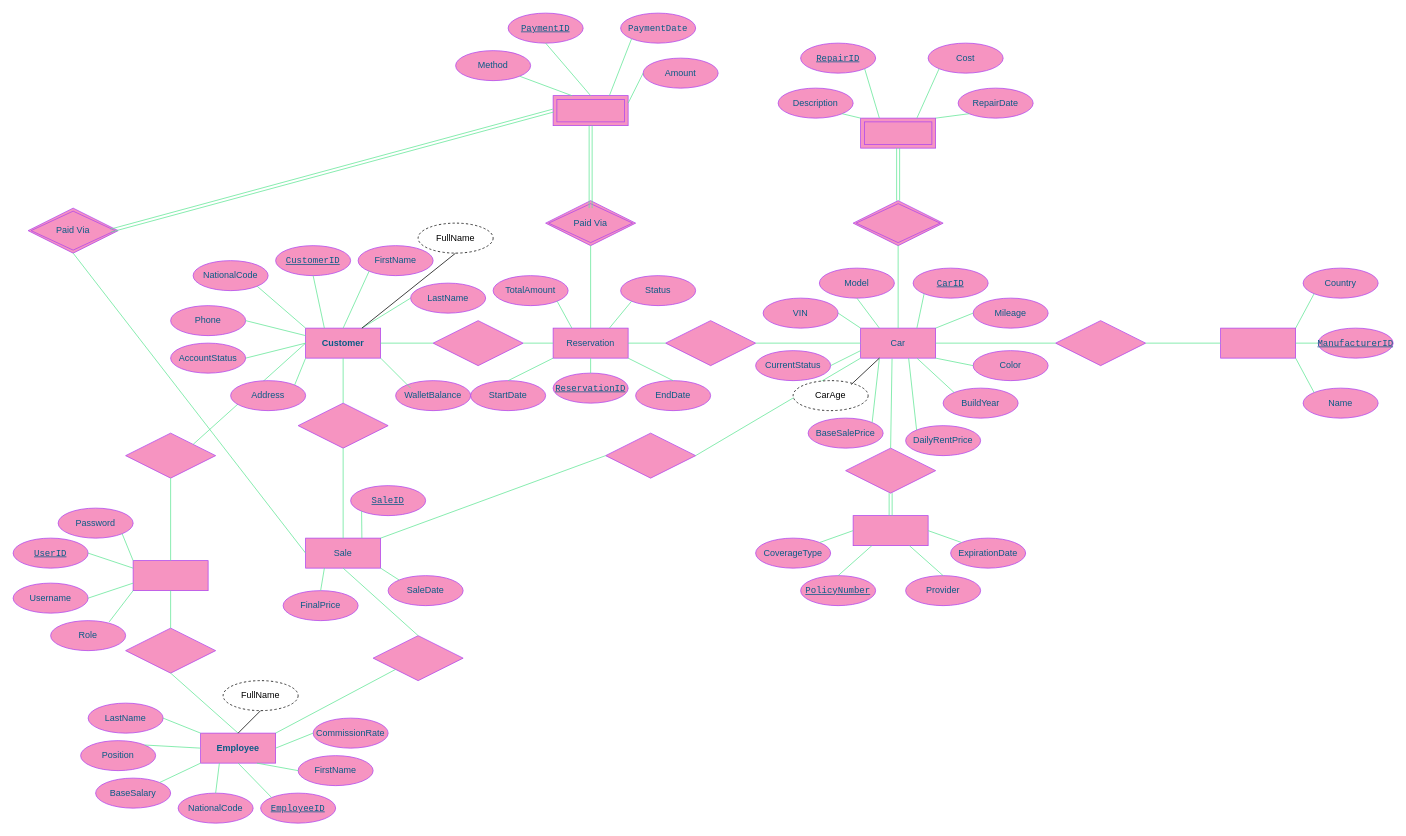
Some shapes in this 1406 by 836 pixel diagram are drawn without their labels. Each missing label, with the box of its shape:
AppUser: (132, 560, 208, 591)
Buys: (297, 402, 388, 448)
Has: (845, 447, 936, 493)
Insurance: (852, 515, 928, 546)
Linked To: (125, 432, 216, 478)
Logs In As: (125, 627, 216, 673)
Makes: (432, 320, 523, 366)
Manufacturer: (1220, 327, 1296, 358)
Needs: (852, 200, 943, 246)
Payment: (552, 95, 628, 126)
Processes: (372, 635, 463, 681)
Produces: (1055, 320, 1146, 366)
Repair: (860, 117, 936, 148)
Reserved In: (665, 320, 756, 366)
Sold: (605, 432, 696, 478)
